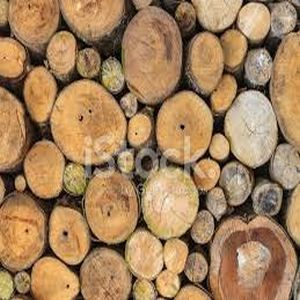log: (48, 80, 129, 169), (210, 214, 293, 300), (120, 4, 185, 109), (223, 90, 280, 169), (153, 91, 215, 163), (86, 170, 141, 251), (142, 165, 198, 244), (1, 194, 51, 272), (60, 1, 129, 43), (46, 204, 91, 267), (80, 249, 131, 300), (8, 1, 64, 47), (187, 30, 225, 97), (24, 141, 65, 201), (27, 255, 81, 300), (123, 230, 165, 282), (22, 66, 58, 125), (45, 30, 77, 78), (220, 161, 254, 206), (251, 179, 288, 219), (235, 3, 271, 44), (206, 72, 238, 116), (270, 142, 300, 188), (1, 36, 29, 82), (124, 110, 157, 149), (219, 29, 248, 72), (243, 50, 274, 89), (269, 1, 298, 39), (190, 158, 220, 193), (161, 237, 189, 273), (184, 250, 213, 284), (62, 161, 89, 197), (74, 47, 103, 79), (102, 58, 126, 94), (190, 208, 216, 241), (206, 186, 229, 222), (129, 276, 159, 300), (207, 133, 231, 162), (175, 3, 199, 32), (158, 269, 181, 297), (13, 270, 32, 299), (1, 271, 13, 300), (12, 176, 30, 194)
